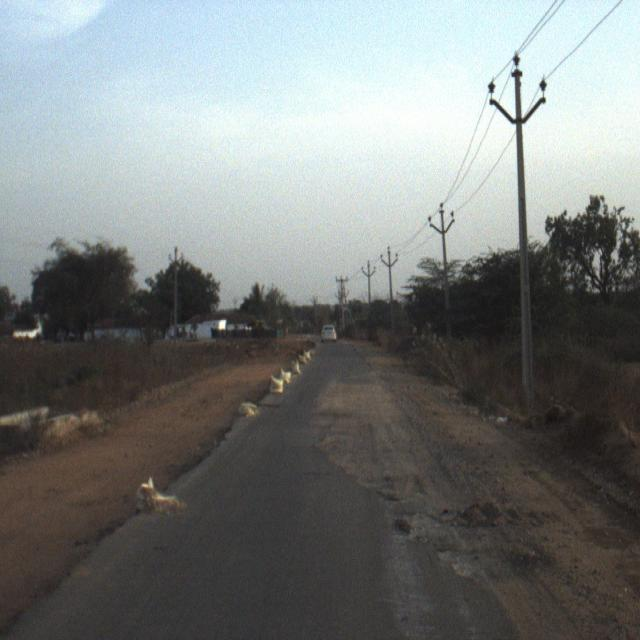Pothole: (388, 496, 547, 635), (309, 363, 407, 491), (417, 403, 475, 488)
